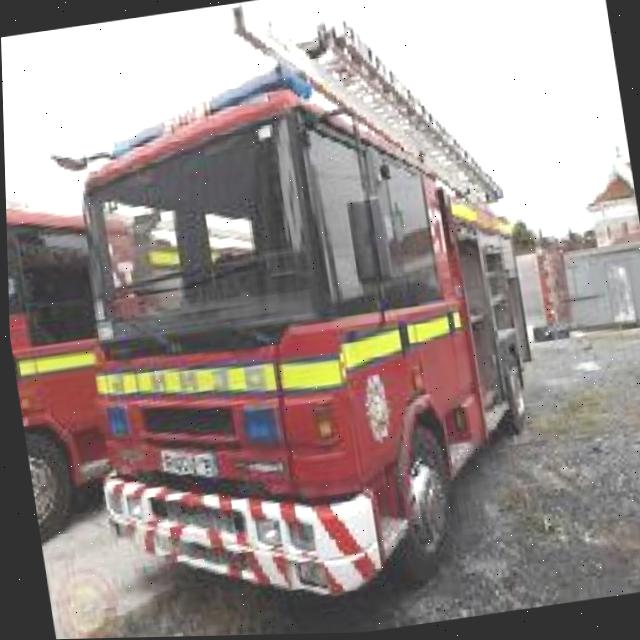emergency: (28, 28, 575, 620)
